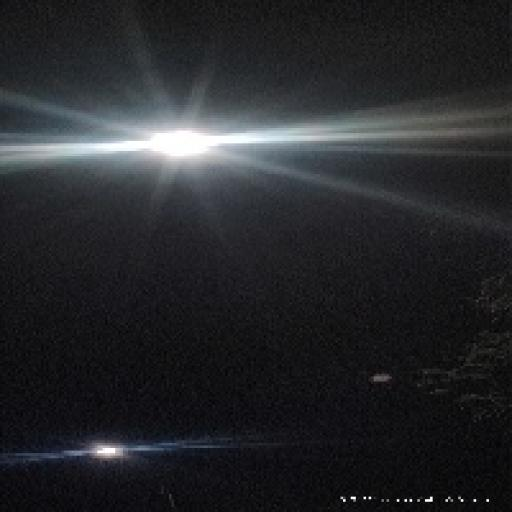Working: (133, 120, 223, 168), (80, 438, 134, 467)
